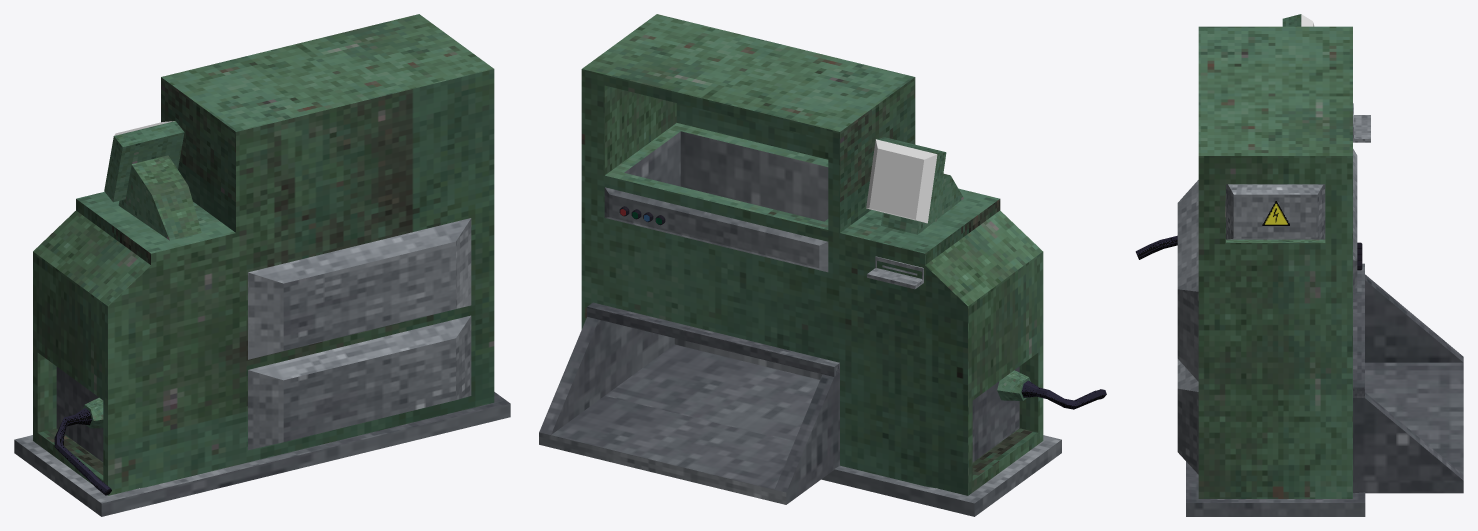
Rendered from Machine.fbx.
3 views of the same model, side by side, from view 1: azimuth 30°, elevation 25°; view 2: azimuth 150°, elevation 25°; view 3: azimuth 270°, elevation 25° (orthographic). The views are drawn at different scales.
Parts seen in each view (by area): view 1: Machine; view 2: Machine; view 3: Machine.
Boxes of the visible parts, x1,y1,x2,y2 form: Machine: [14, 14, 510, 516]; Machine: [539, 14, 1106, 516]; Machine: [1135, 14, 1463, 516].
Bounding box in the file's own units: 356 × 268 × 224.
Materials: 6 (5 with a texture image).
